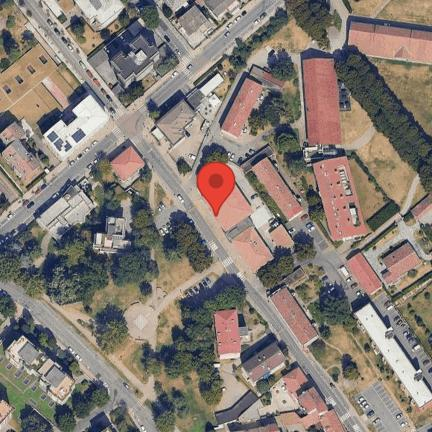area_open: (339, 91, 419, 230), (167, 105, 267, 200), (290, 212, 363, 301), (12, 61, 90, 137), (378, 300, 432, 389), (368, 65, 432, 134), (368, 218, 431, 273), (355, 388, 423, 432), (124, 293, 170, 350), (343, 1, 432, 25), (211, 358, 244, 413), (246, 303, 273, 357), (26, 137, 61, 168), (153, 23, 174, 57)
built: (356, 302, 432, 409), (231, 368, 350, 432), (87, 17, 162, 98), (3, 333, 81, 407), (153, 70, 224, 150), (311, 154, 368, 242), (44, 93, 111, 161), (34, 180, 101, 246), (0, 44, 57, 116), (0, 122, 52, 192), (347, 24, 432, 66), (249, 156, 303, 222), (199, 169, 254, 232), (303, 57, 341, 145), (269, 286, 318, 351), (219, 75, 262, 139), (46, 0, 125, 30), (241, 340, 287, 386), (231, 226, 274, 272), (105, 145, 147, 191), (344, 251, 384, 297), (382, 241, 422, 285), (92, 216, 134, 256), (217, 389, 258, 423), (214, 308, 240, 359), (173, 7, 213, 40), (200, 0, 242, 24), (270, 223, 296, 254), (412, 191, 431, 223), (0, 397, 16, 425), (163, 0, 187, 12)
vegetation_high: (1, 196, 160, 309), (334, 54, 432, 202), (147, 278, 247, 404)
vegetation_low: (260, 247, 432, 430), (218, 0, 341, 242), (75, 175, 222, 371), (69, 316, 215, 432), (0, 361, 122, 431), (2, 314, 101, 382), (372, 260, 432, 361), (120, 45, 179, 107), (70, 4, 140, 55), (0, 0, 31, 69)
